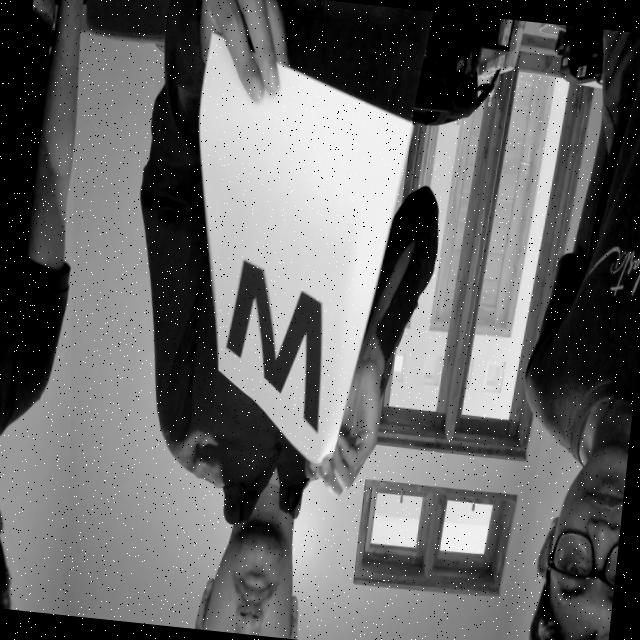w: (204, 235, 340, 443)
